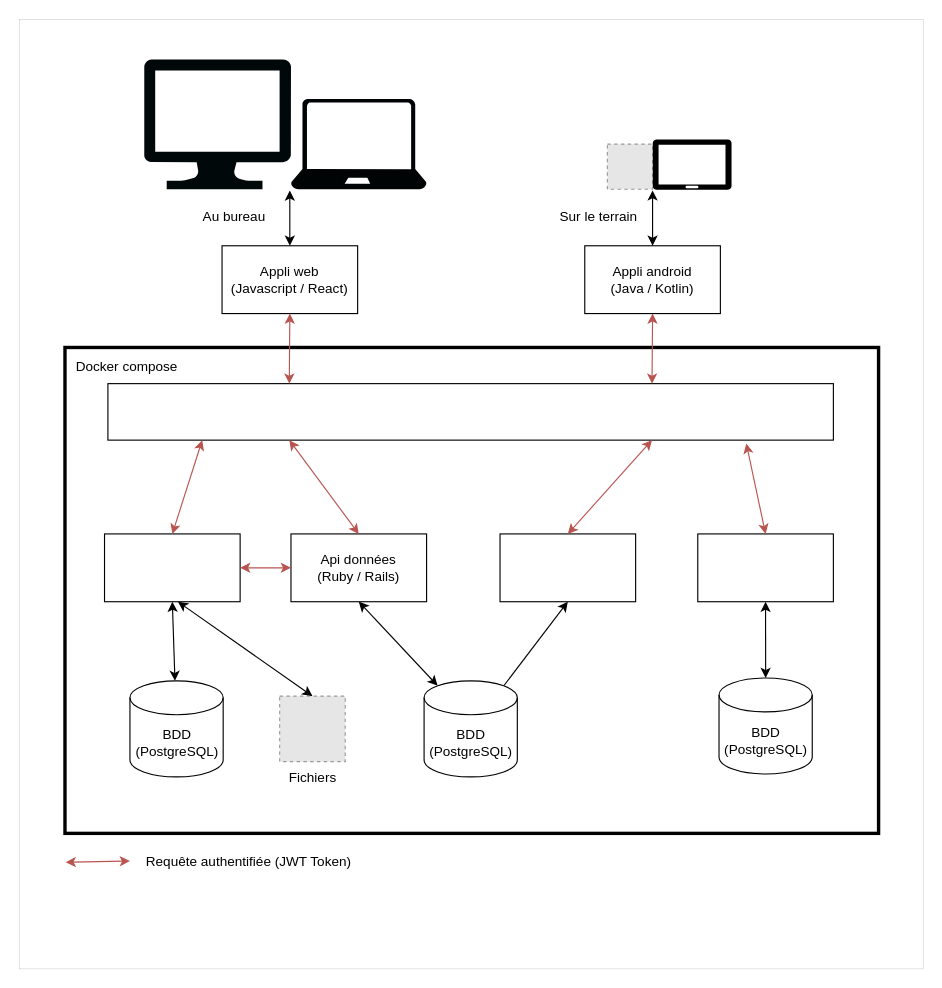
This 942x988 diagram has some shape labels left out. Grey dashed boxes stand in for pictures. The box of each missing label's shape, as (x1, y1, x2, y2) in pixels:
API métier (Python / FastAPI): (103, 533, 240, 602)
Reverse proxy (Nginx): (107, 383, 833, 440)
Serveur carto (Mapserver): (499, 533, 636, 602)
Serveur d'authentification (Keycloak): (697, 533, 833, 602)
